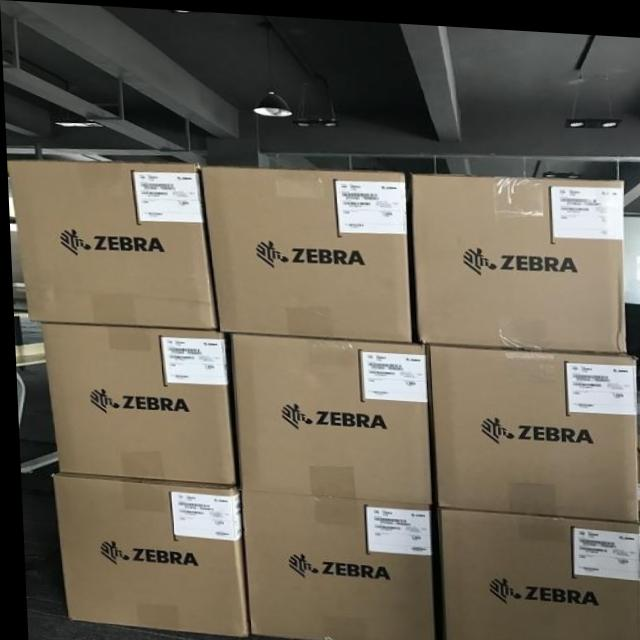box: (410, 169, 624, 345), (199, 164, 409, 338), (426, 340, 634, 514), (6, 160, 216, 328), (227, 329, 429, 499), (48, 472, 243, 633), (38, 323, 233, 483), (238, 487, 429, 640), (433, 503, 638, 640)
